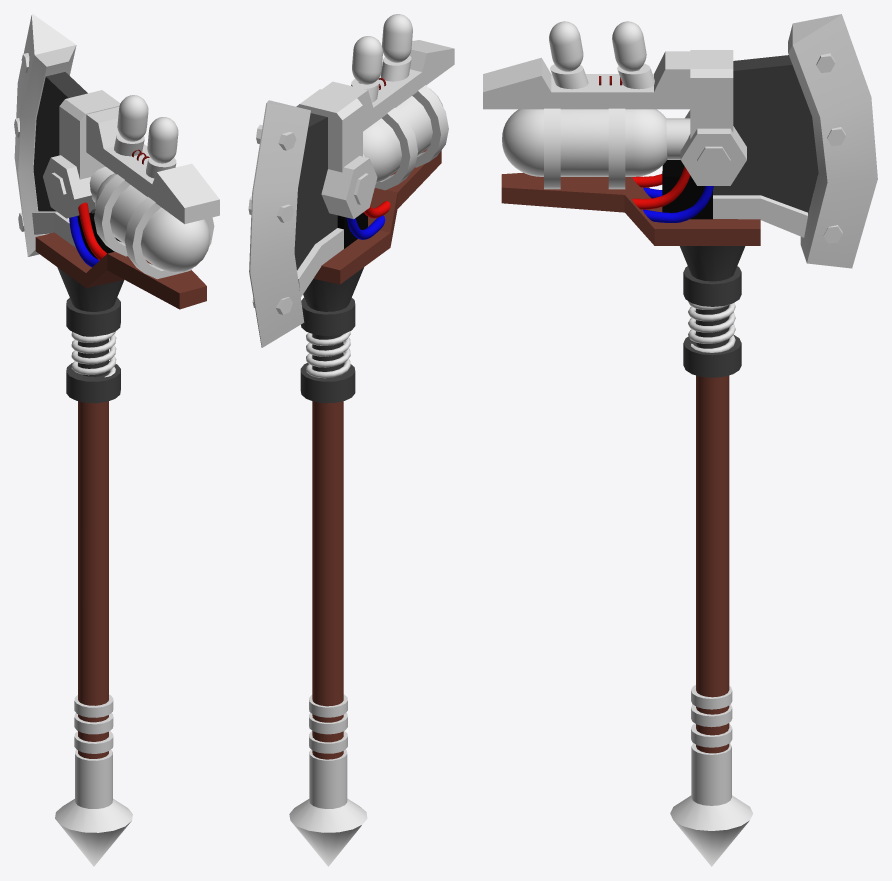
The model's file is axe.fbx.
3 views of the same model, side by side, from view 1: azimuth 30°, elevation 25°; view 2: azimuth 150°, elevation 25°; view 3: azimuth 270°, elevation 25° (orthographic). The views are drawn at different scales.
Visible parts, largest first — view 1: Цилиндр, Куб.001_Куб.002, Куб_Куб.001, Цилиндр.001, Куб.005_Куб.006, Цилиндр.007, Цилиндр.013_Цилиндр.014, Куб.002_Куб.003, Куб.003_Куб.004, Цилиндр.027, Цилиндр.014_Цилиндр.015, Цилиндр.004 (+10 smaller); view 2: Цилиндр, Куб_Куб.001, Цилиндр.001, Куб.002_Куб.003, Куб.005_Куб.006, Куб.001_Куб.002, Куб.003_Куб.004, Цилиндр.013_Цилиндр.014, Цилиндр.007, Цилиндр.014_Цилиндр.015, Цилиндр.027, Цилиндр.004 (+10 smaller); view 3: Куб_Куб.001, Цилиндр, Куб.002_Куб.003, Цилиндр.007, Куб.001_Куб.002, Куб.005_Куб.006, Цилиндр.001, Куб.003_Куб.004, Цилиндр.013_Цилиндр.014, Цилиндр.014_Цилиндр.015, Цилиндр.027, Куб.007_Куб.008 (+10 smaller).
Boxes of the visible parts, left/top/right/bottom form: Цилиндр: left=78, top=401, right=108, bottom=758; Куб.001_Куб.002: left=86, top=106, right=219, bottom=224; Куб_Куб.001: left=14, top=14, right=76, bottom=256; Цилиндр.001: left=55, top=750, right=132, bottom=866; Куб.005_Куб.006: left=35, top=232, right=206, bottom=309; Цилиндр.007: left=95, top=173, right=210, bottom=272; Цилиндр.013_Цилиндр.014: left=94, top=174, right=214, bottom=279; Куб.002_Куб.003: left=33, top=72, right=95, bottom=213; Куб.003_Куб.004: left=59, top=90, right=120, bottom=179; Цилиндр.027: left=57, top=267, right=124, bottom=376; Цилиндр.014_Цилиндр.015: left=43, top=155, right=95, bottom=218; Цилиндр.004: left=74, top=694, right=113, bottom=753; Цилиндр: left=312, top=401, right=343, bottom=759; Куб_Куб.001: left=249, top=100, right=310, bottom=347; Цилиндр.001: left=289, top=749, right=367, bottom=866; Куб.002_Куб.003: left=294, top=113, right=337, bottom=270; Куб.005_Куб.006: left=313, top=148, right=441, bottom=284; Куб.001_Куб.002: left=322, top=40, right=454, bottom=131; Куб.003_Куб.004: left=296, top=89, right=362, bottom=172; Цилиндр.013_Цилиндр.014: left=375, top=85, right=448, bottom=190; Цилиндр.007: left=363, top=88, right=443, bottom=183; Цилиндр.014_Цилиндр.015: left=321, top=156, right=377, bottom=219; Цилиндр.027: left=303, top=267, right=363, bottom=371; Цилиндр.004: left=309, top=694, right=347, bottom=753; Куб_Куб.001: left=788, top=14, right=877, bottom=268; Цилиндр: left=696, top=375, right=729, bottom=753; Куб.002_Куб.003: left=713, top=55, right=818, bottom=213; Цилиндр.007: left=502, top=109, right=667, bottom=176; Куб.001_Куб.002: left=483, top=51, right=690, bottom=109; Куб.005_Куб.006: left=501, top=172, right=760, bottom=245; Цилиндр.001: left=670, top=743, right=752, bottom=866; Куб.003_Куб.004: left=690, top=50, right=733, bottom=138; Цилиндр.013_Цилиндр.014: left=544, top=108, right=625, bottom=189; Цилиндр.014_Цилиндр.015: left=680, top=110, right=746, bottom=185; Цилиндр.027: left=680, top=246, right=745, bottom=348; Куб.007_Куб.008: left=713, top=195, right=807, bottom=237.
Size of the model in its own units: 39.75 by 375 by 157.
